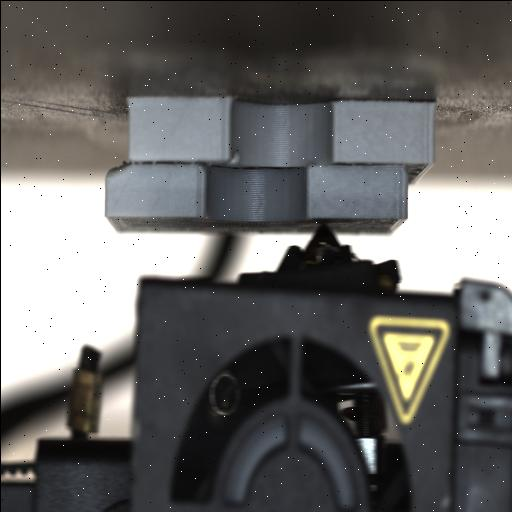layer_shift: (106, 156, 440, 180)
